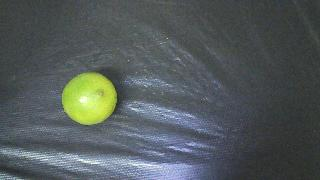LOCAL: (62, 72, 117, 125)
